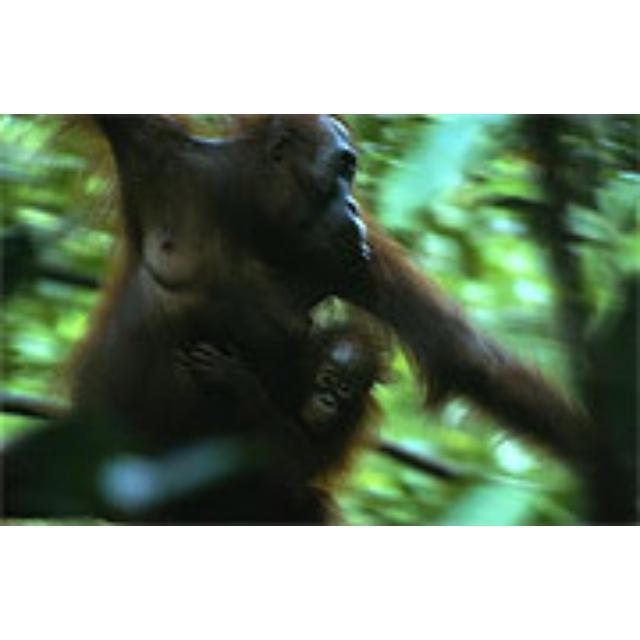Orangutan: (22, 119, 380, 505)
